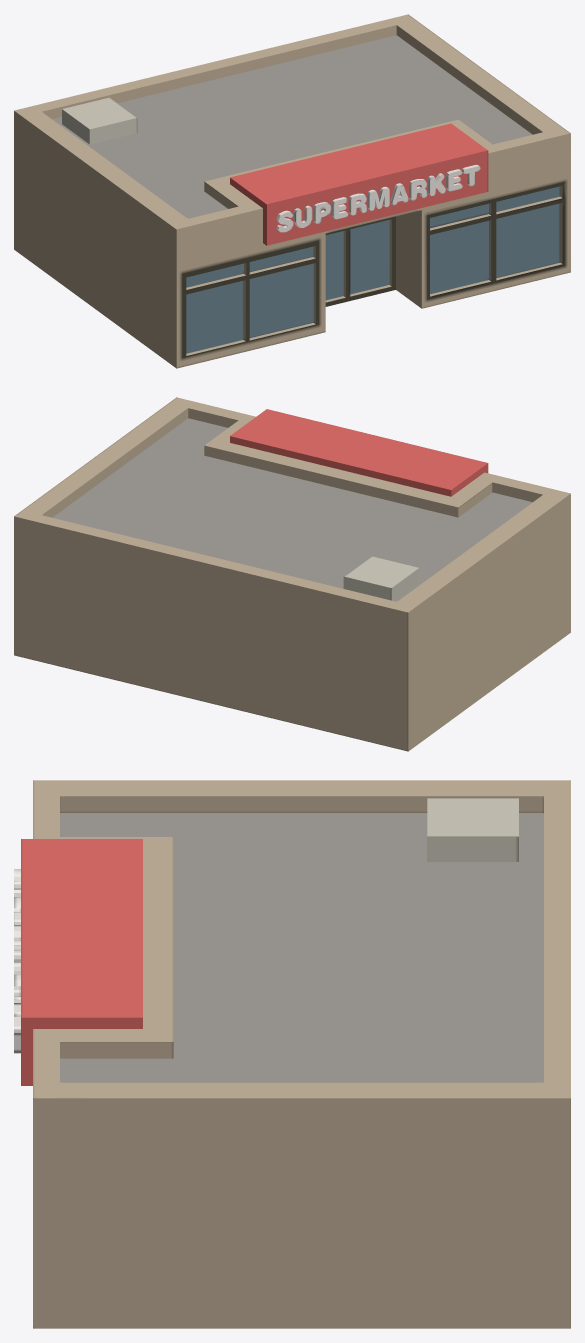
Rendered from Market_s02.fbx.
3 renders of one model, top to bottom at view 1: azimuth 30°, elevation 25°; view 2: azimuth 150°, elevation 25°; view 3: azimuth 270°, elevation 25°, orthographic. The views are drawn at different scales.
Parts seen in each view (by area): view 1: Market_; view 2: Market_; view 3: Market_.
Boxes of the visible parts, bbox=[...] form: Market_: bbox=[14, 14, 570, 368]; Market_: bbox=[14, 397, 570, 751]; Market_: bbox=[14, 780, 570, 1328].
Size of the model in its own units: 1232 by 435 by 911.
